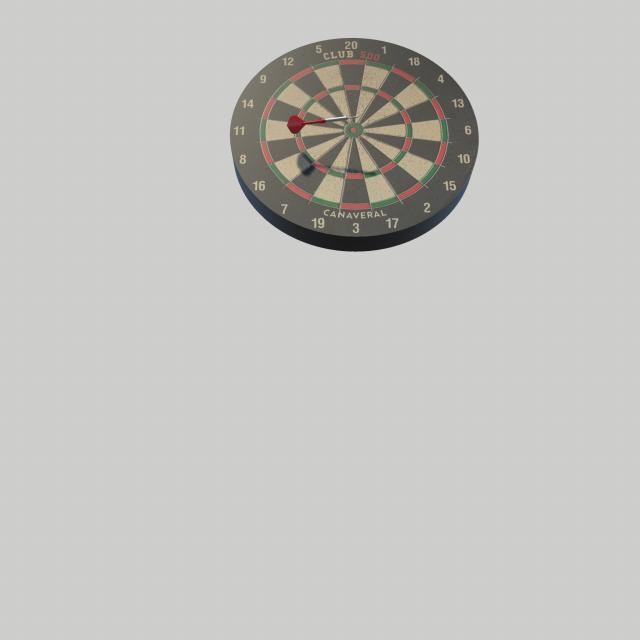metal: (325, 116, 363, 123)
plastic: (287, 115, 326, 134)
